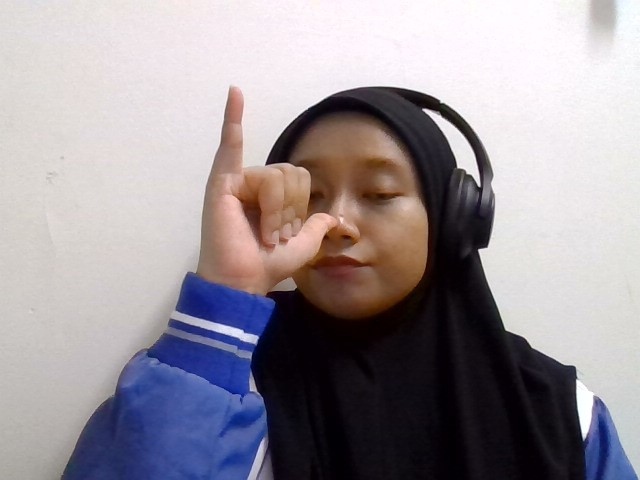BadakSumbu: (199, 85, 375, 284)
